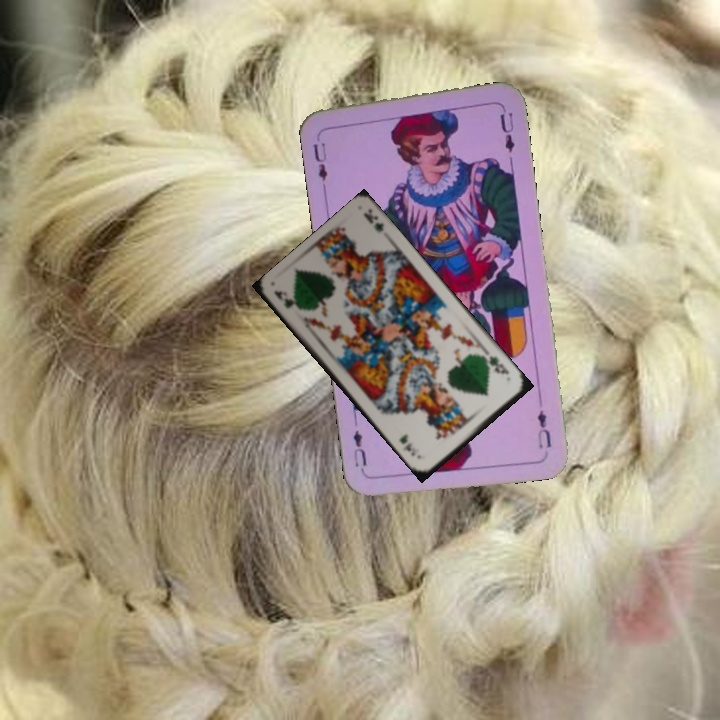EU: (309, 130, 330, 189), (533, 406, 554, 452)
GK: (270, 286, 303, 314), (480, 352, 512, 377)
